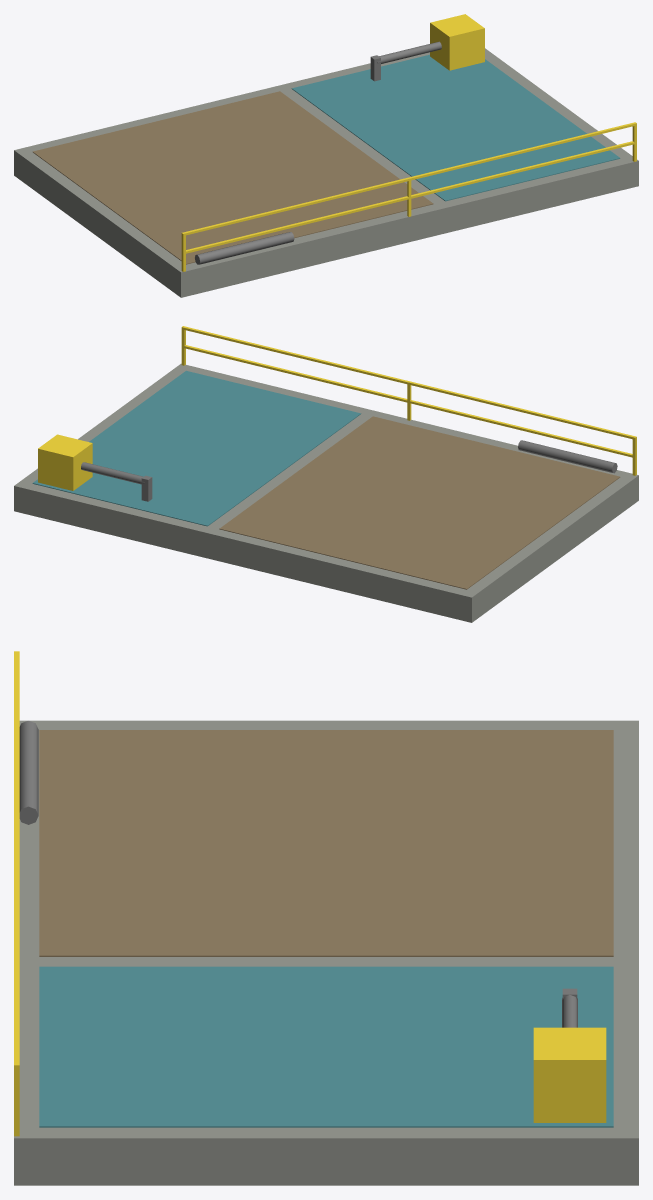
The model's file is site_pond.fbx.
3 renders of one model, top to bottom at view 1: azimuth 30°, elevation 25°; view 2: azimuth 150°, elevation 25°; view 3: azimuth 270°, elevation 25°, orthographic. The views are drawn at different scales.
Visible parts, largest first — view 1: a1089/0/site_pond; view 2: a1089/0/site_pond; view 3: a1089/0/site_pond.
Boxes of the visible parts, box(x1,y1,x2,y2) form: a1089/0/site_pond: box(14, 14, 638, 297); a1089/0/site_pond: box(14, 326, 638, 622); a1089/0/site_pond: box(14, 651, 638, 1185).
Size of the model in its own units: 13.6 by 1.8 by 8.6.
